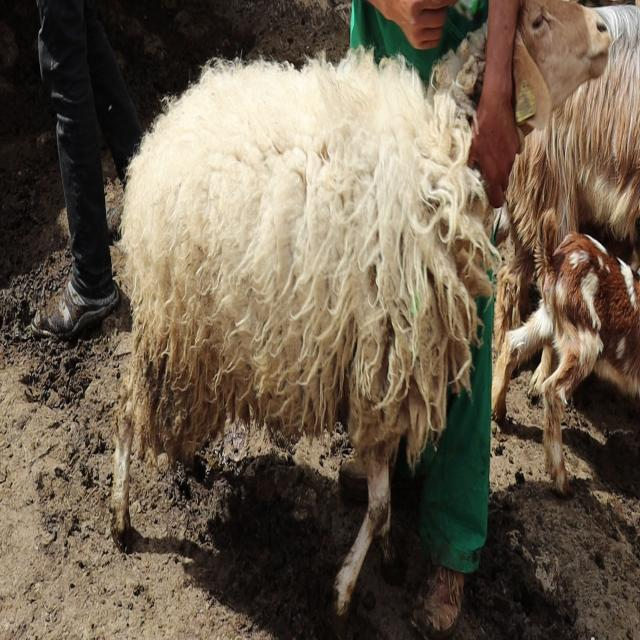Score_4: (110, 25, 500, 617)
